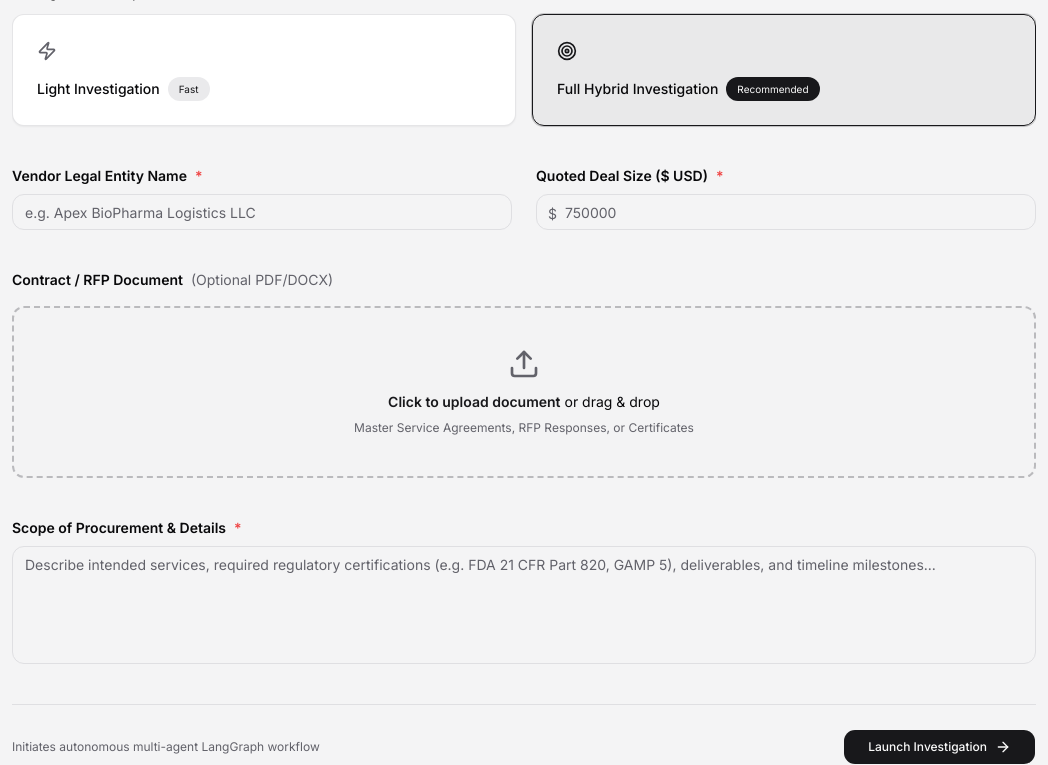
SubmitRequestForm Component › validates client-side constraints on empty submit
This screenshot has width=1048, height=765.
(page scrolled)
Click the button "Launch Investigation": (940, 747) [843,729,1036,764]
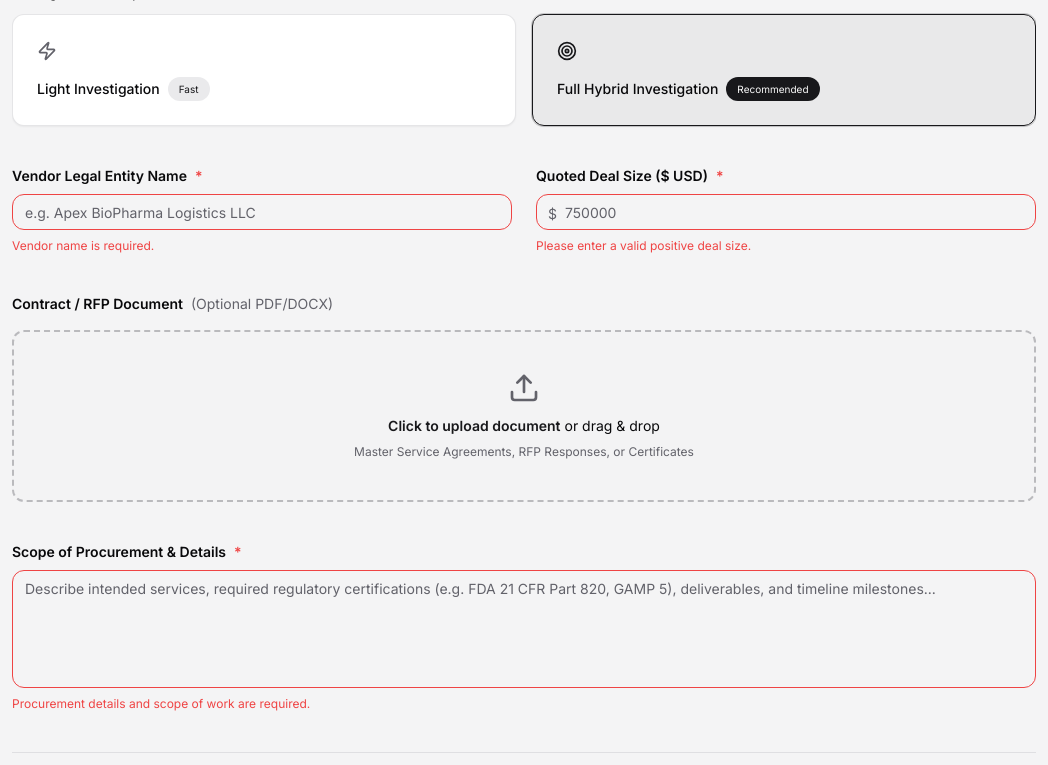
Now the text "Vendor name is required." is shown, box [12,238,154,253]
Now the text "Please enter a valid positive deal size." is shown, box [536,238,751,253]
Now the text "Procurement details and scope of work are required." is shown, box [12,696,310,711]
